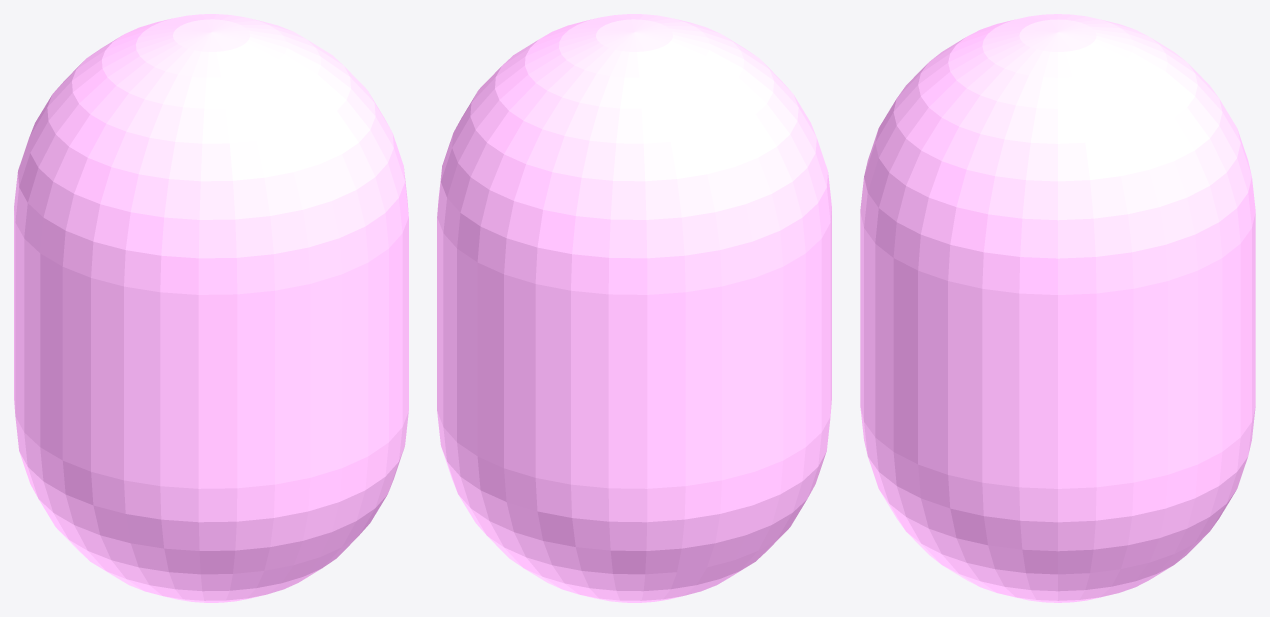
File: player.glb
3 views of the same model, side by side, from view 1: azimuth 30°, elevation 25°; view 2: azimuth 150°, elevation 25°; view 3: azimuth 270°, elevation 25° (orthographic).
Visible parts, largest first — view 1: Sphere; view 2: Sphere; view 3: Sphere.
Part boxes in pixels (box(x1,y1,x2,y2)): Sphere: box(14, 14, 408, 602); Sphere: box(437, 14, 831, 602); Sphere: box(860, 14, 1255, 602).
Bounding box in the file's own units: 0.5667 × 0.8732 × 0.5667.
